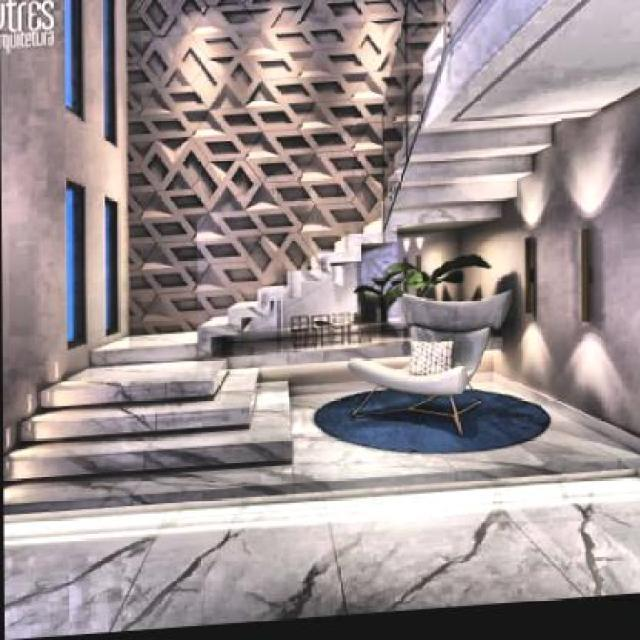stair: (3, 328, 305, 497)
